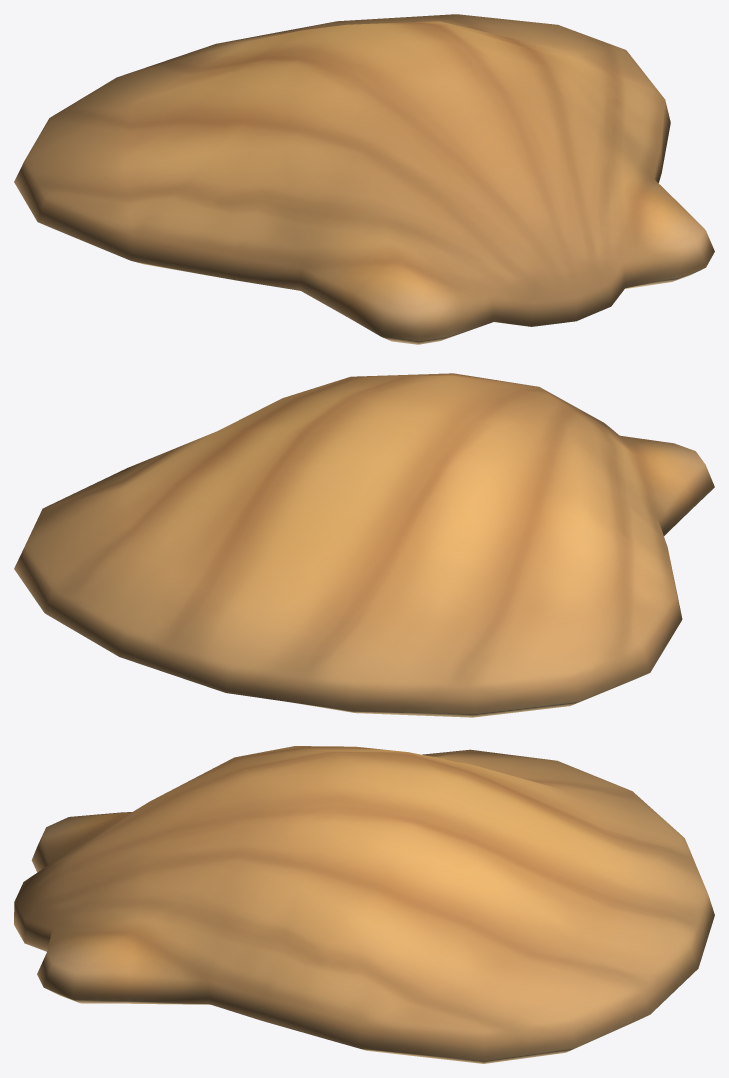
File: Concha.fbx
3 renders of one model, top to bottom at view 1: azimuth 30°, elevation 25°; view 2: azimuth 150°, elevation 25°; view 3: azimuth 270°, elevation 25°, orthographic.
Visible parts, largest first — view 1: Concha_cima; view 2: Concha_cima; view 3: Concha_cima.
Part boxes in pixels (x1,y1,x2,y2): Concha_cima: (14, 14, 714, 344); Concha_cima: (14, 373, 714, 717); Concha_cima: (14, 746, 714, 1063).
Bounding box in the file's own units: 98.18 × 24.04 × 99.24.
